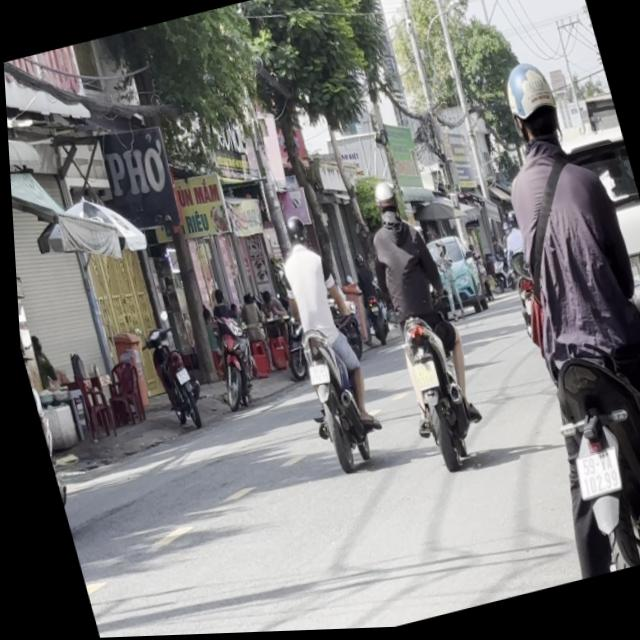helmet: (494, 57, 568, 163), (365, 179, 399, 228), (276, 214, 305, 253)
licenseplate: (434, 39, 640, 587), (344, 169, 488, 475), (254, 204, 384, 479)
nohelmet: (563, 450, 616, 502), (404, 362, 433, 393), (300, 362, 325, 387)
